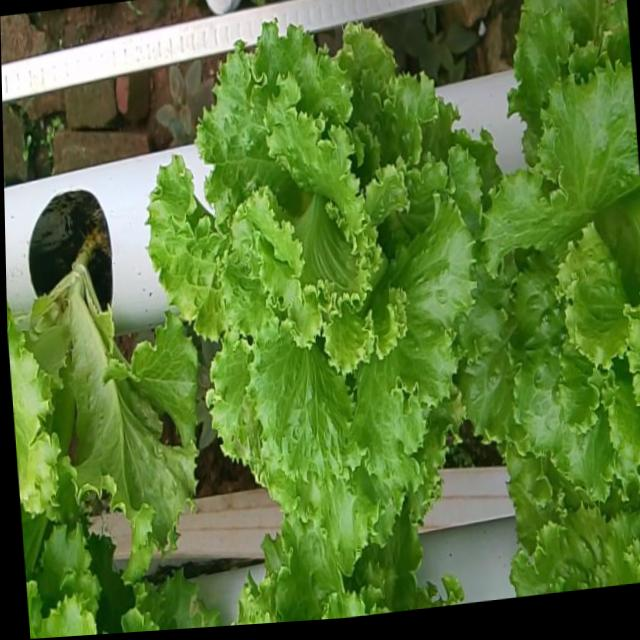Mature: (141, 6, 474, 538), (453, 39, 640, 487)
